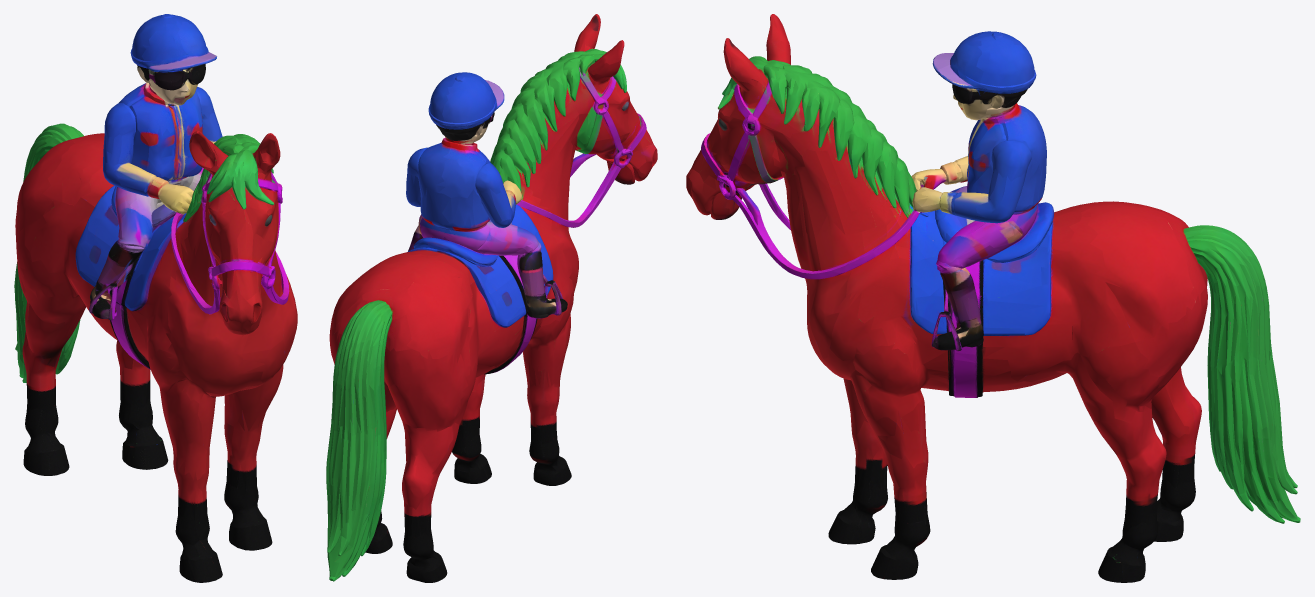
Rendered from meshy-robusto-ondas.glb.
3 renders of one model, left to right at view 1: azimuth 30°, elevation 25°; view 2: azimuth 150°, elevation 25°; view 3: azimuth 270°, elevation 25°, orthographic. The views are drawn at different scales.
Size of the model in its own units: 0.6926 by 1.77 by 1.9.
1 material, 1 textured.
